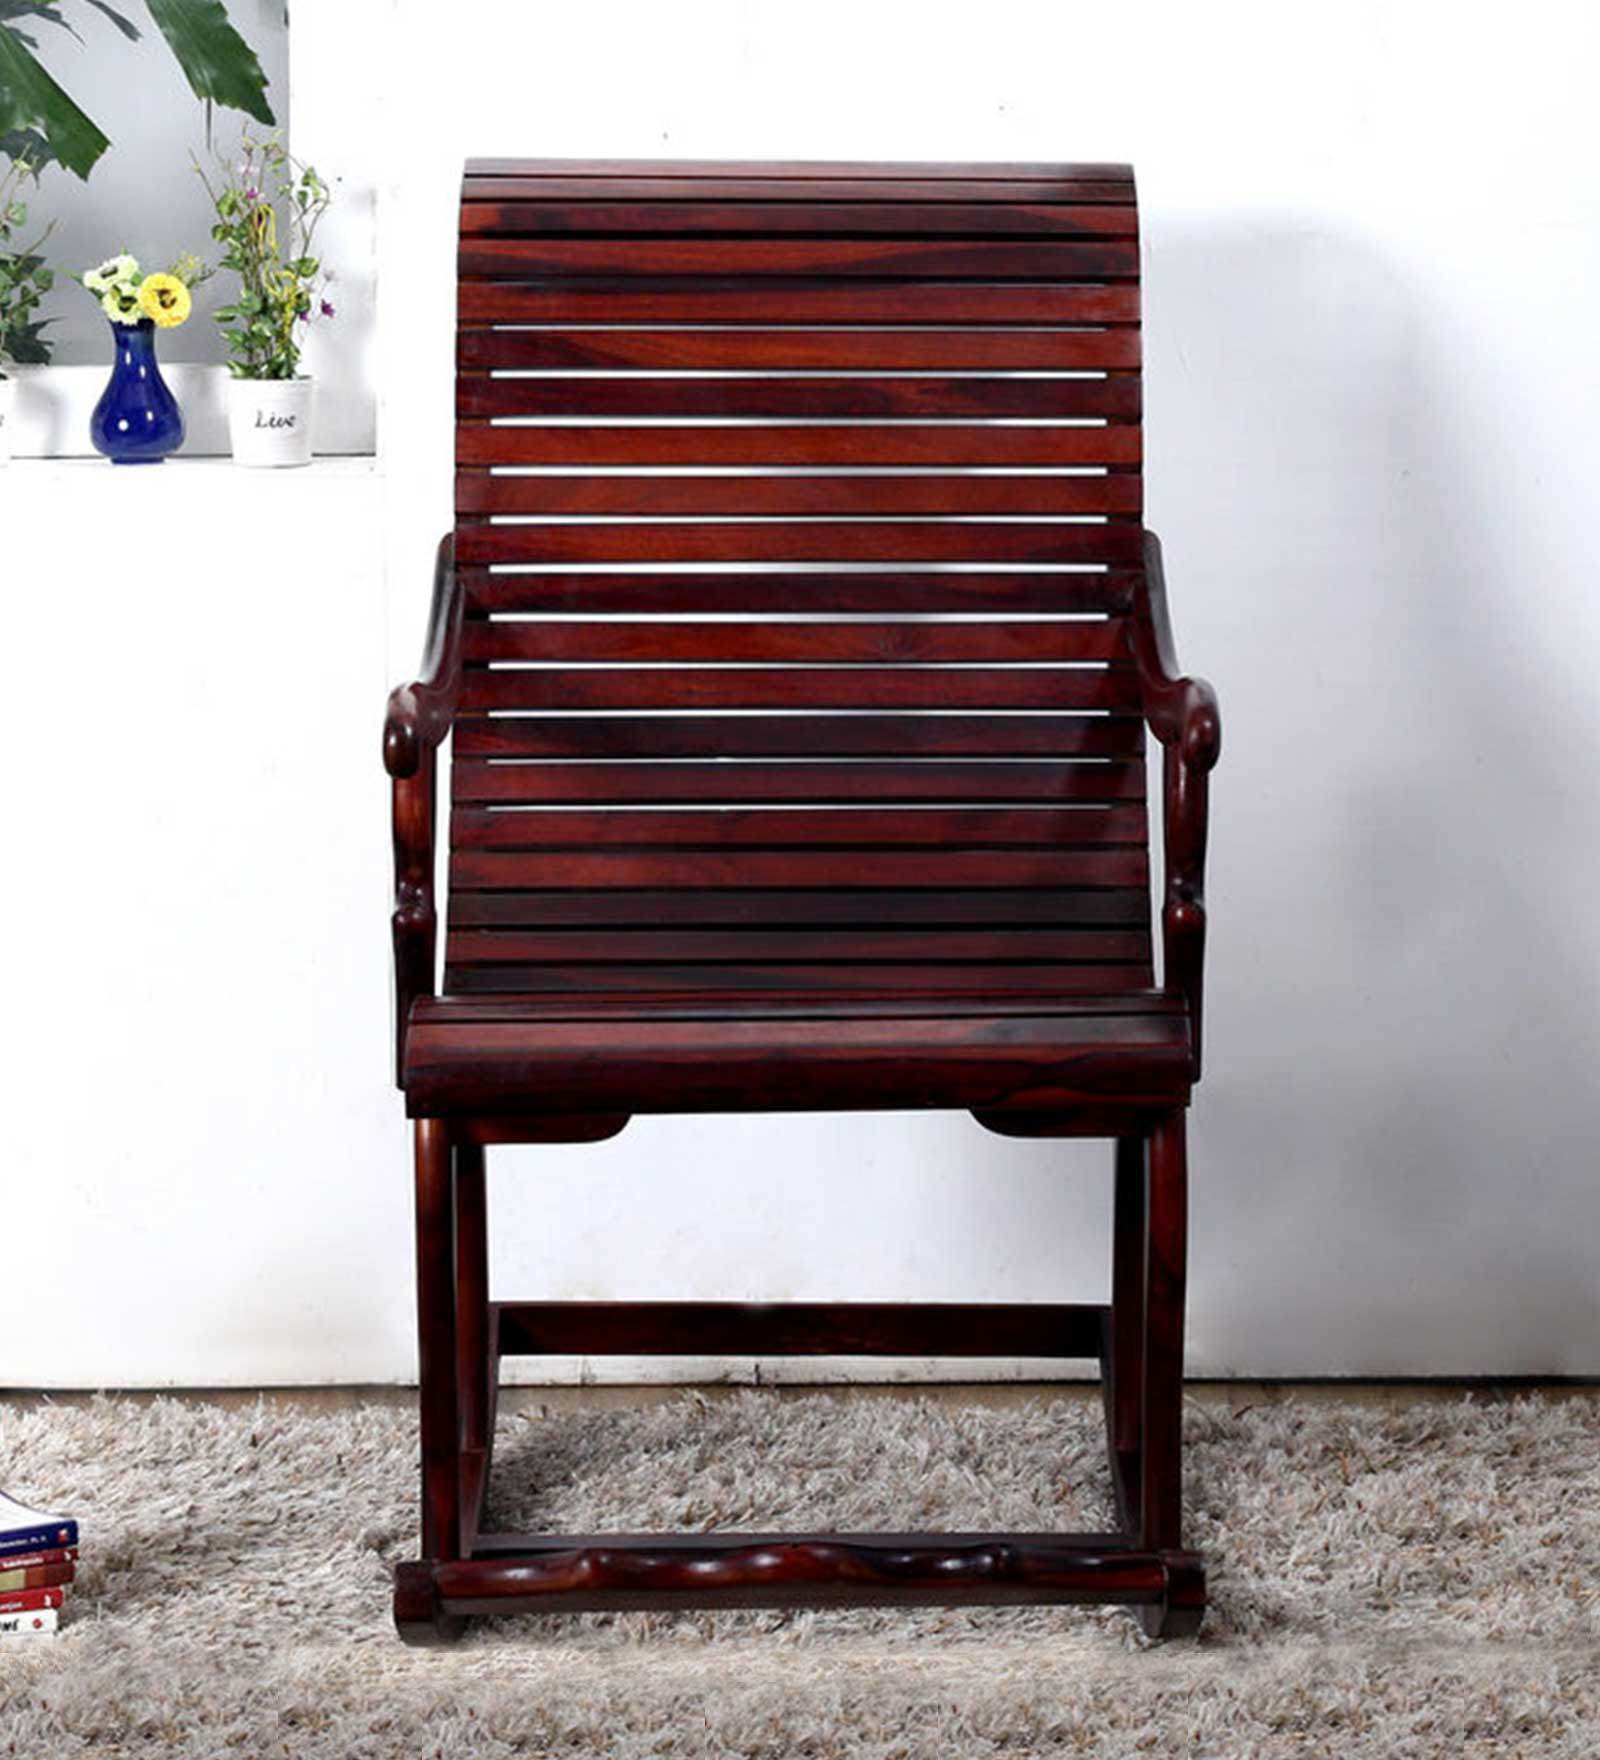Acklom Rocking Chair in Honey Oak Finish by Amberville: (388, 136, 1235, 1689)
